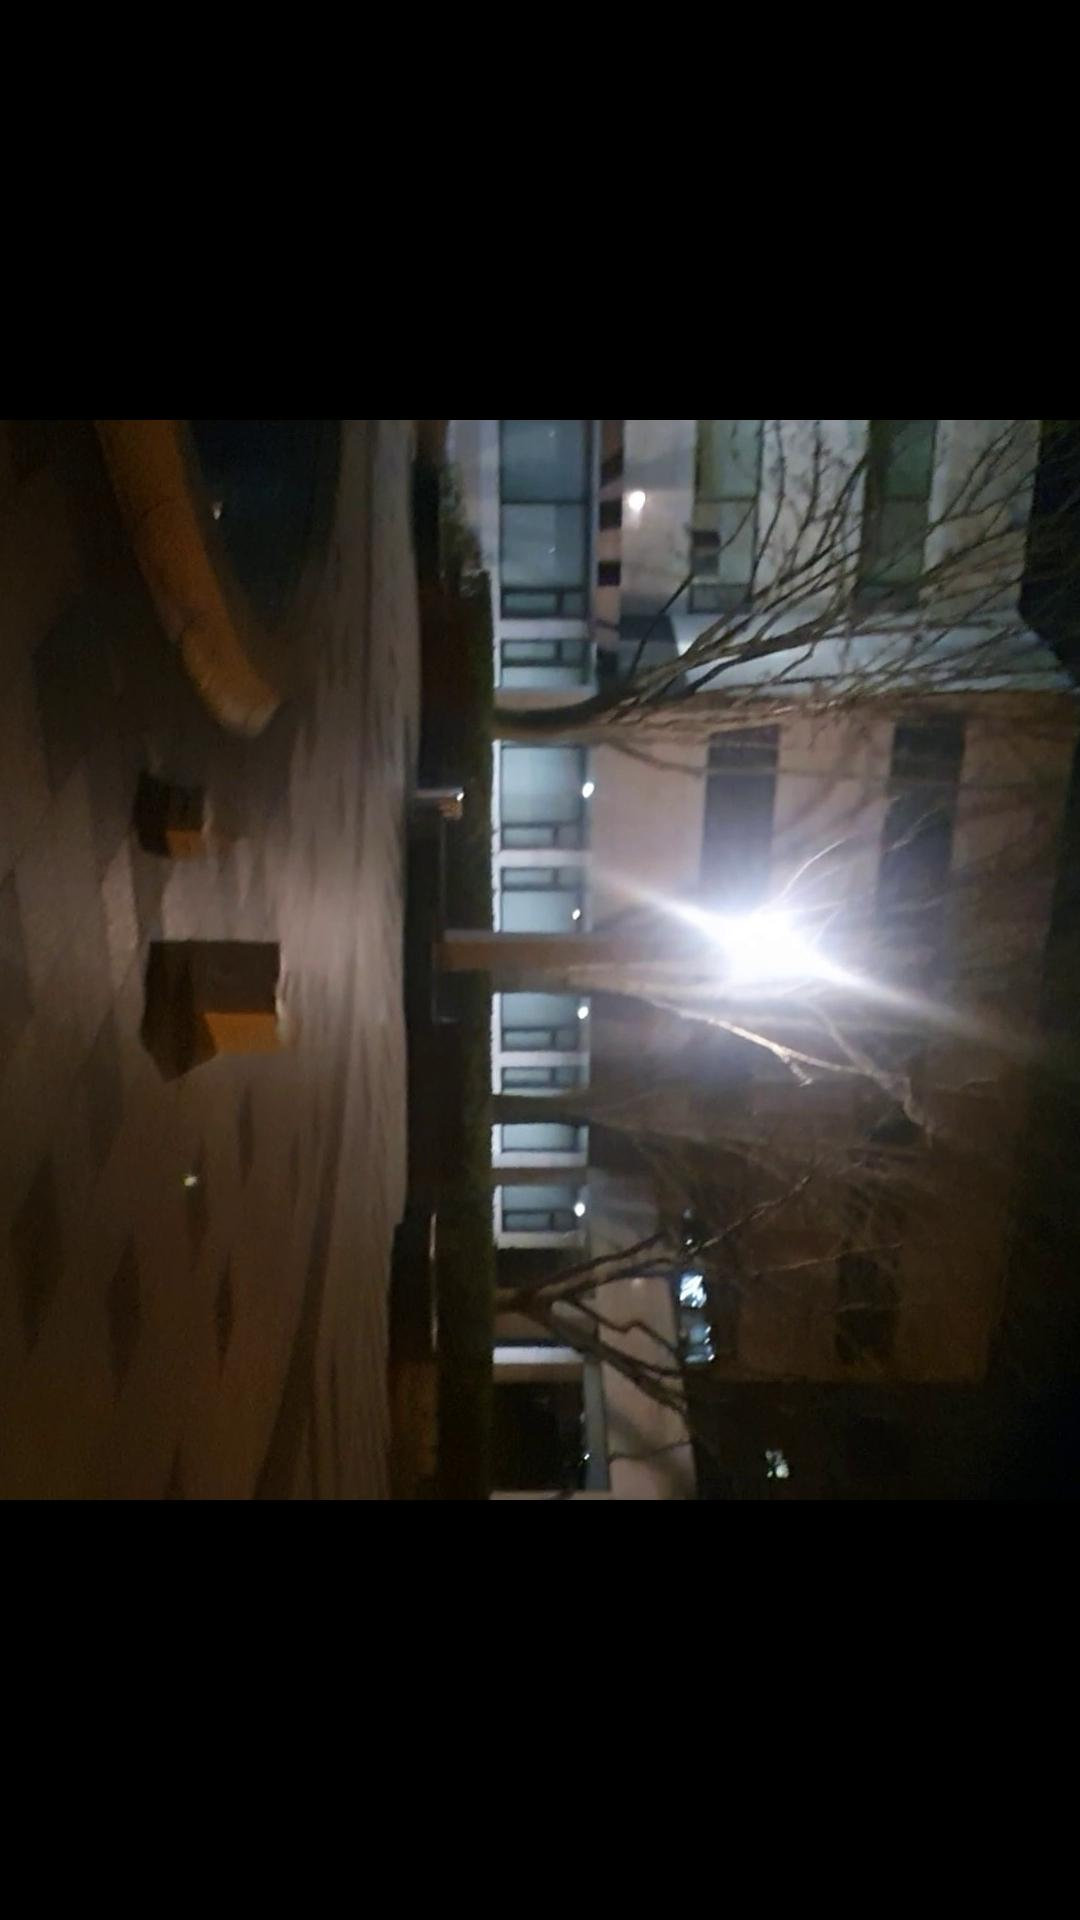Box: (193, 936, 302, 1060), (152, 773, 222, 857)
